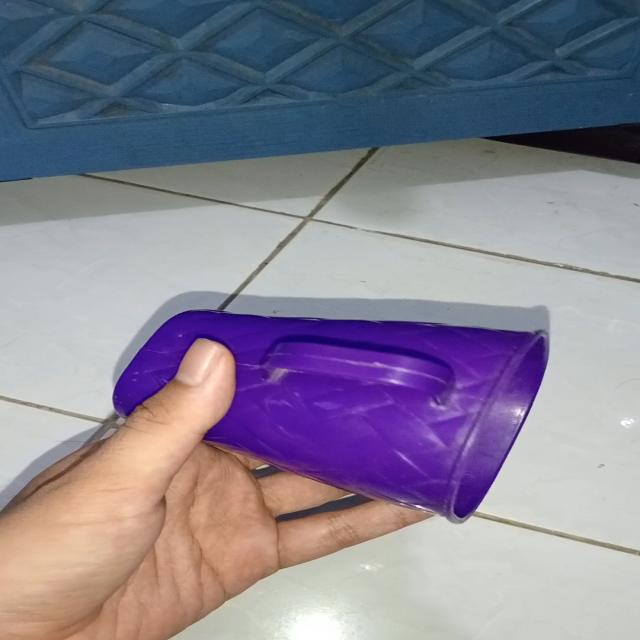gelas bekas: (109, 306, 552, 524)
